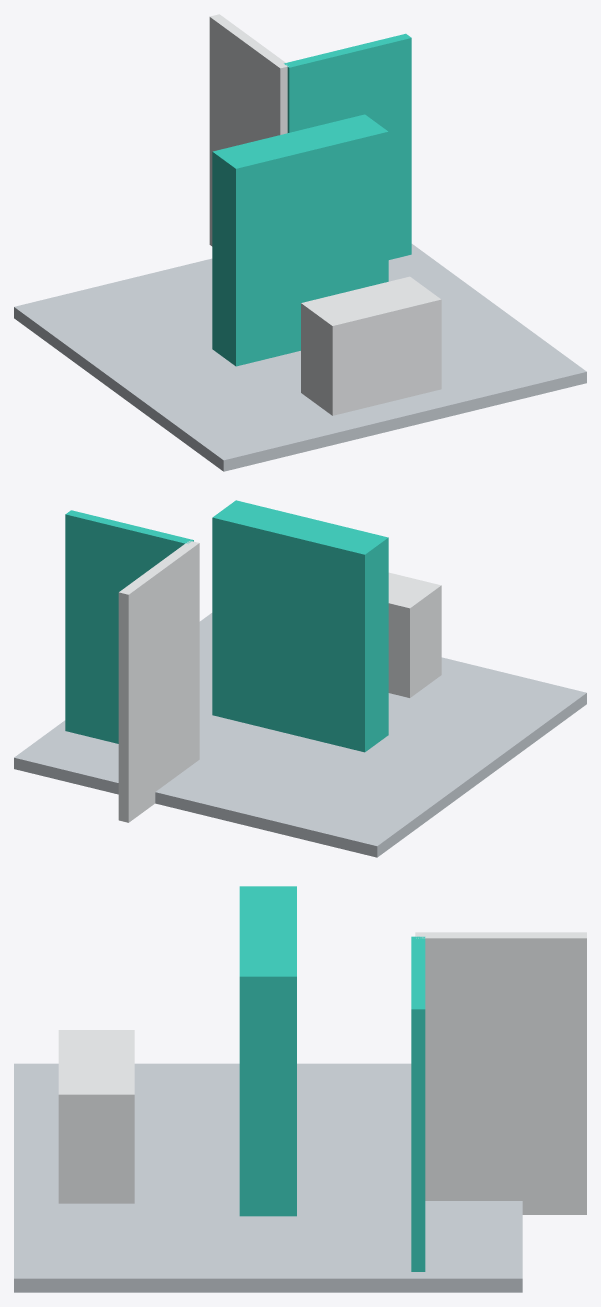
3 views of the same model, one above another, from view 1: azimuth 30°, elevation 25°; view 2: azimuth 150°, elevation 25°; view 3: azimuth 270°, elevation 25° (orthographic). The views are drawn at different scales.
Parts seen in each view (by area): view 1: Exhibition Booth Concept; view 2: Exhibition Booth Concept; view 3: Exhibition Booth Concept.
Part boxes in pixels (x1=…): Exhibition Booth Concept: x1=14, y1=14, x2=586, y2=471; Exhibition Booth Concept: x1=14, y1=500, x2=586, y2=857; Exhibition Booth Concept: x1=14, y1=886, x2=586, y2=1292.
Size of the model in its own units: 4 by 2.4 by 4.51.
